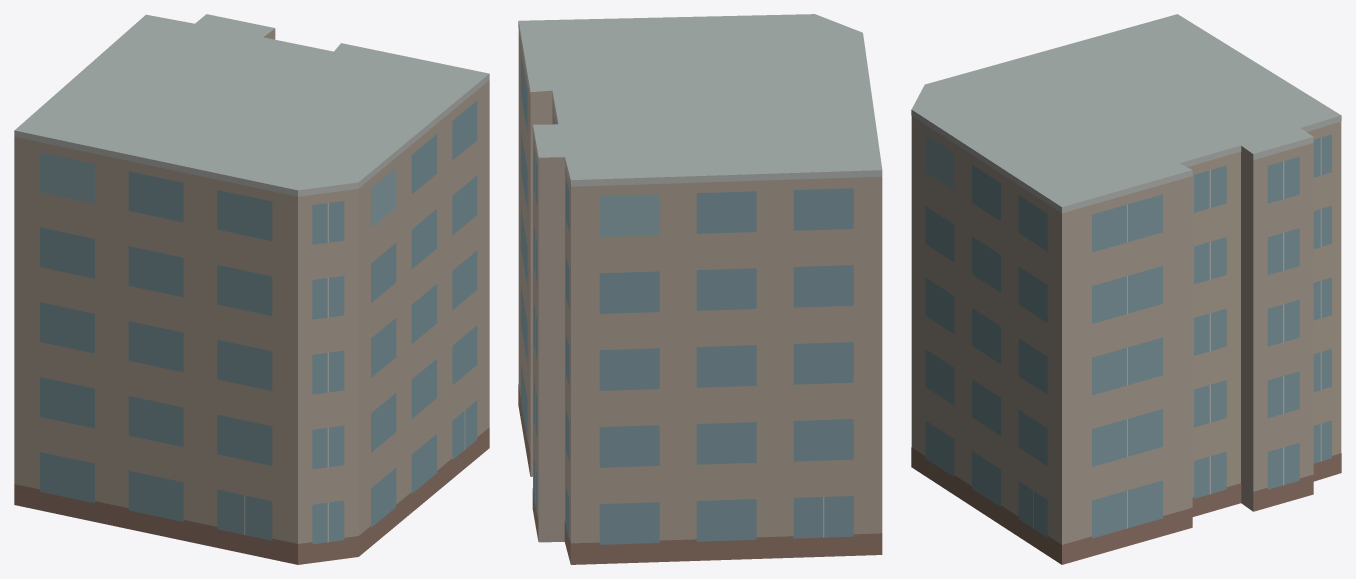
File: survey-upis-32732642.glb
3 views of the same model, side by side, from view 1: azimuth 30°, elevation 25°; view 2: azimuth 150°, elevation 25°; view 3: azimuth 270°, elevation 25° (orthographic). The views are drawn at different scales.
Visible parts, largest first — view 1: survey-upis-32732642.tmp; view 2: survey-upis-32732642.tmp; view 3: survey-upis-32732642.tmp.
Part boxes in pixels (<box>): survey-upis-32732642.tmp: <box>14,14,489,564</box>; survey-upis-32732642.tmp: <box>518,14,882,564</box>; survey-upis-32732642.tmp: <box>911,14,1341,564</box>.
Size of the model in its own units: 16.7 by 14.4 by 15.7.
